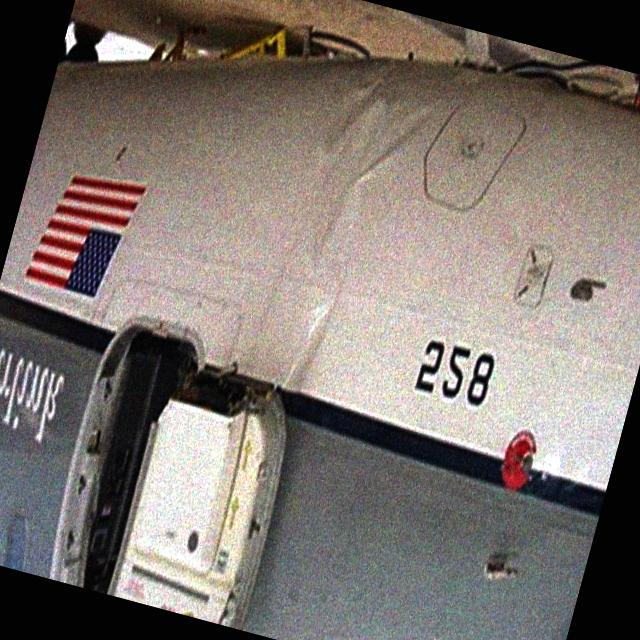dent: (252, 55, 449, 407)
